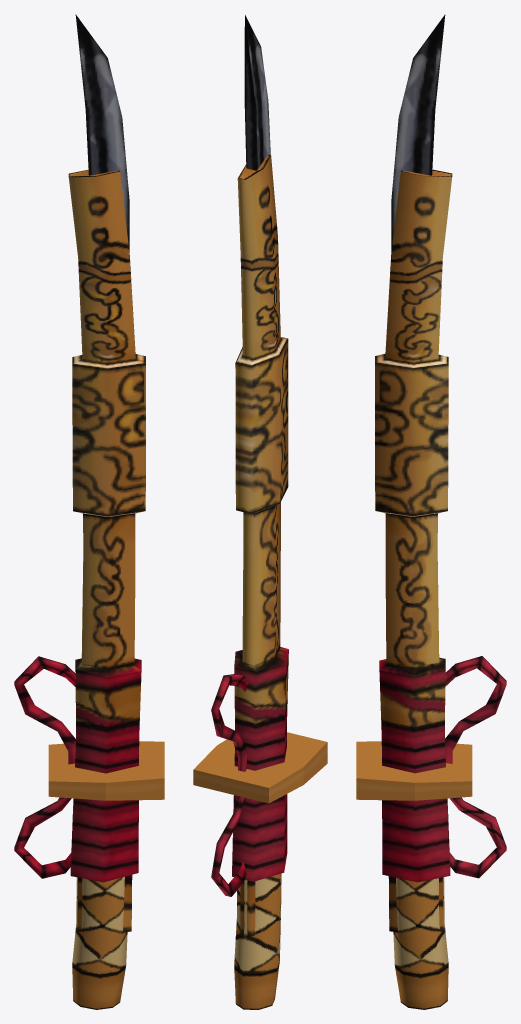
Rendered from WP_1H_Katana06.FBX.
3 renders of one model, left to right at view 1: azimuth 90°, elevation 25°; view 2: azimuth 150°, elevation 25°; view 3: azimuth 270°, elevation 25°, orthographic.
Parts seen in each view (by area): view 1: WP_1H_KatanaScabbard06, WP_1H_Katana06; view 2: WP_1H_KatanaScabbard06, WP_1H_Katana06; view 3: WP_1H_KatanaScabbard06, WP_1H_Katana06.
Boxes of the visible parts, left/top/right/bottom form: WP_1H_KatanaScabbard06: left=14, top=169, right=145, bottom=932; WP_1H_Katana06: left=48, top=14, right=164, bottom=1009; WP_1H_KatanaScabbard06: left=211, top=154, right=288, bottom=936; WP_1H_Katana06: left=193, top=15, right=327, bottom=1009; WP_1H_KatanaScabbard06: left=375, top=169, right=506, bottom=932; WP_1H_Katana06: left=356, top=14, right=472, bottom=1009.
Bounding box in the file's own units: 10.9 × 119 × 16.45.
Materials: 1 (1 with a texture image).
